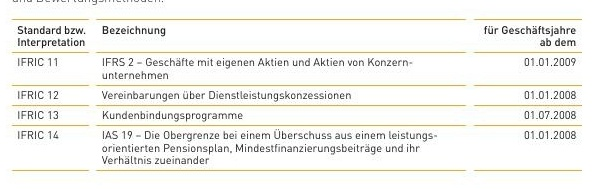table: (0, 0, 596, 189)
